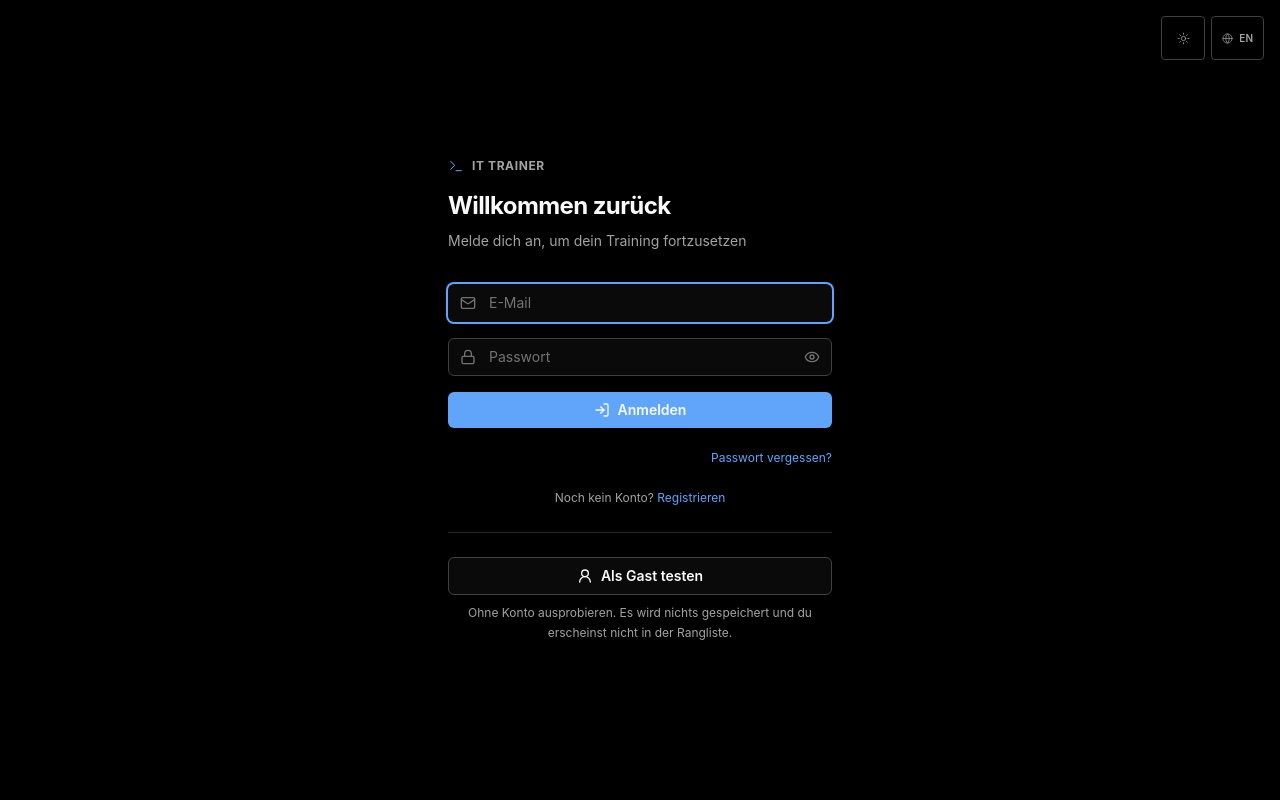
Test case: WelcomeScreen › toggles theme and updates aria-label
# Default theme is dark → shows "Switch to light mode"
What coordinates should you click on to do the following:
click the button named "switch to light mode"
I would click on:
 (1183, 38)
Its box is [1161,16,1205,60].
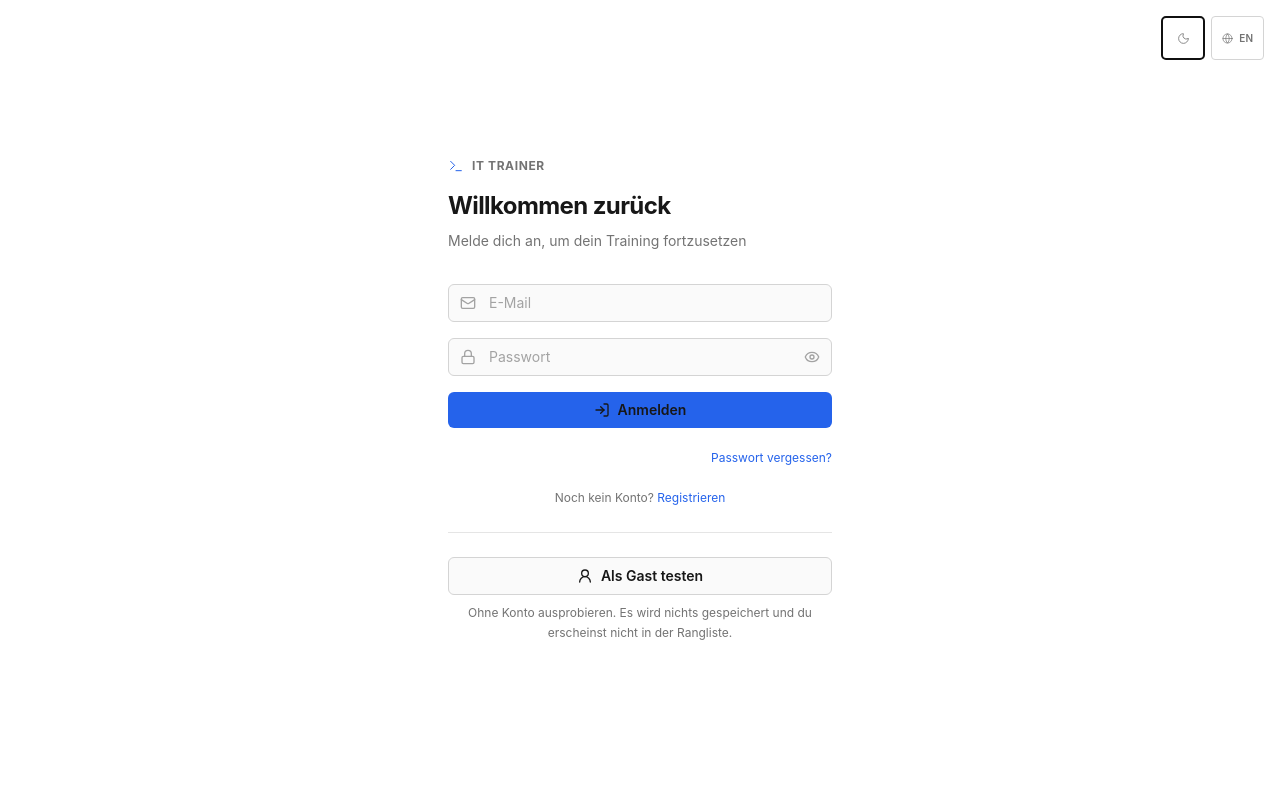
Now the button named "switch to dark mode" is shown
What coordinates should you click on to do the following:
click the button named "switch to dark mode"
I would click on:
 (1183, 38)
Its box is [1161,16,1205,60].
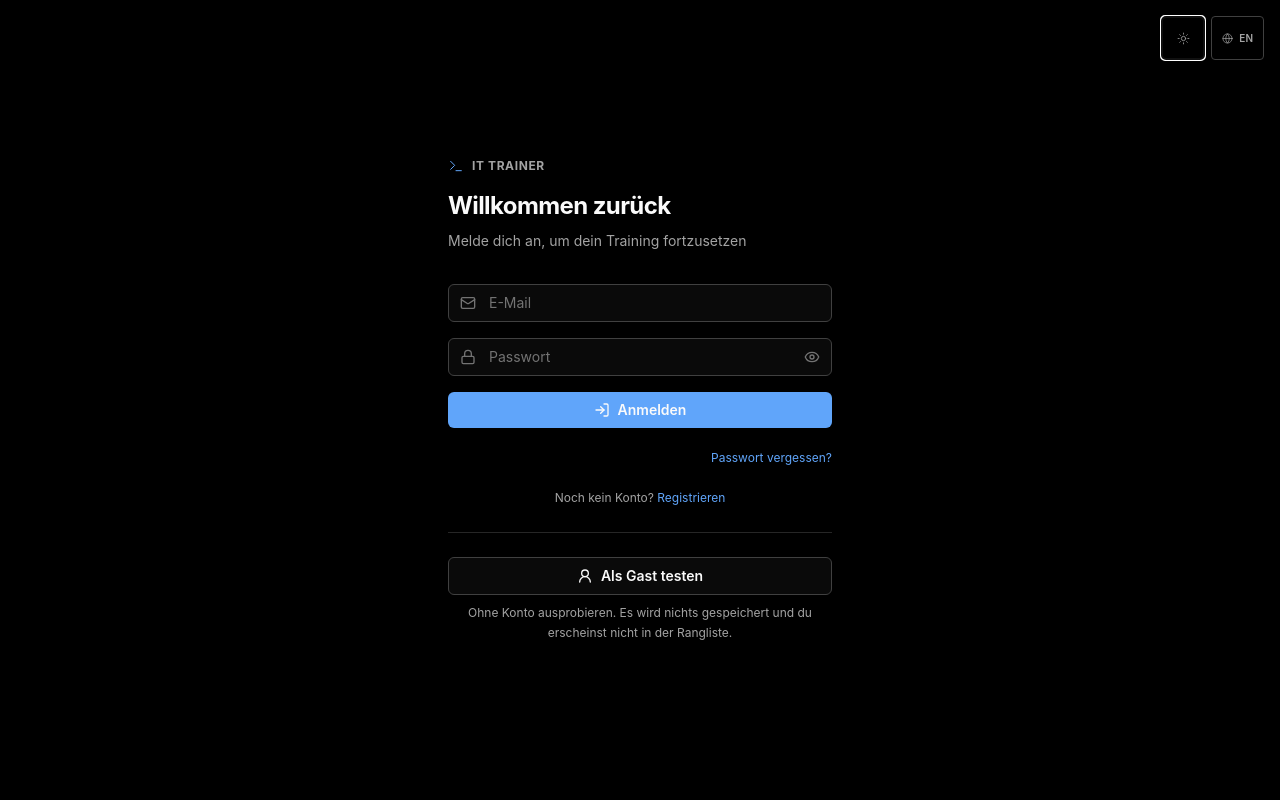
Now the button named "switch to light mode" is shown, box [1161,16,1205,60]
